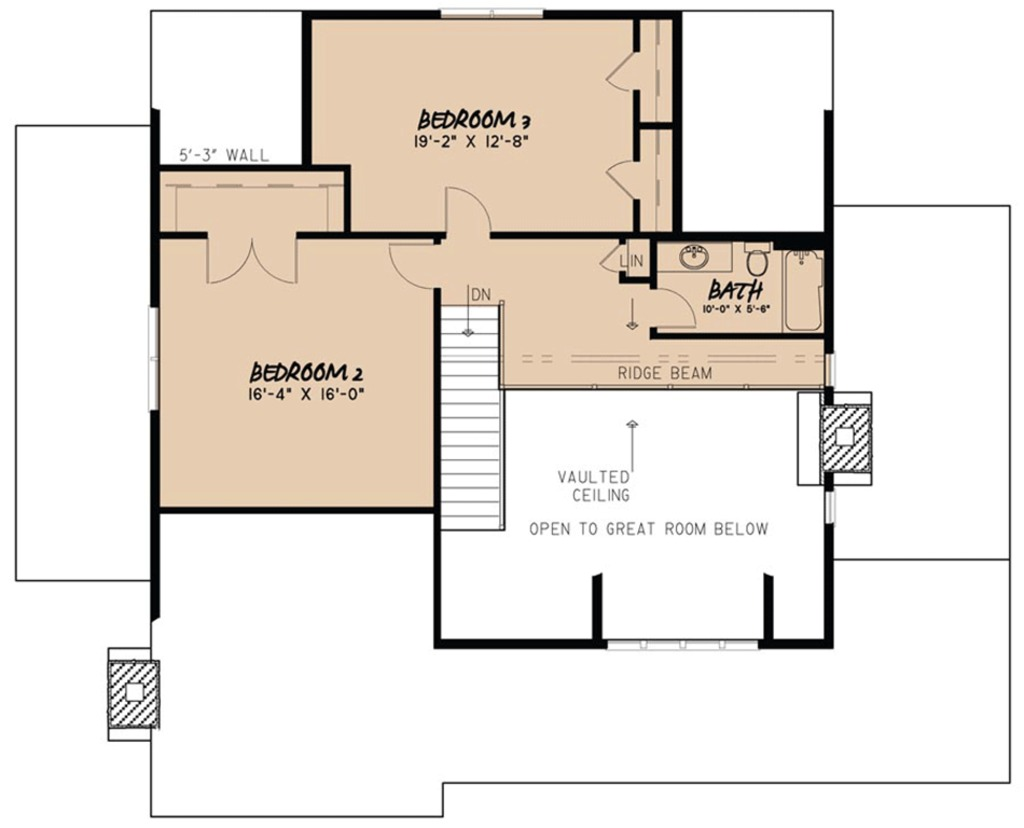door: (202, 229, 306, 290), (384, 238, 451, 292), (646, 285, 707, 342), (433, 181, 488, 244), (603, 157, 651, 204), (606, 37, 645, 90), (594, 242, 628, 273)
large_sink: (742, 237, 775, 292)
small_sink: (658, 234, 731, 277)
stairs: (431, 300, 521, 538)
tub: (788, 252, 830, 338)
window: (439, 3, 541, 20), (145, 305, 156, 409)
